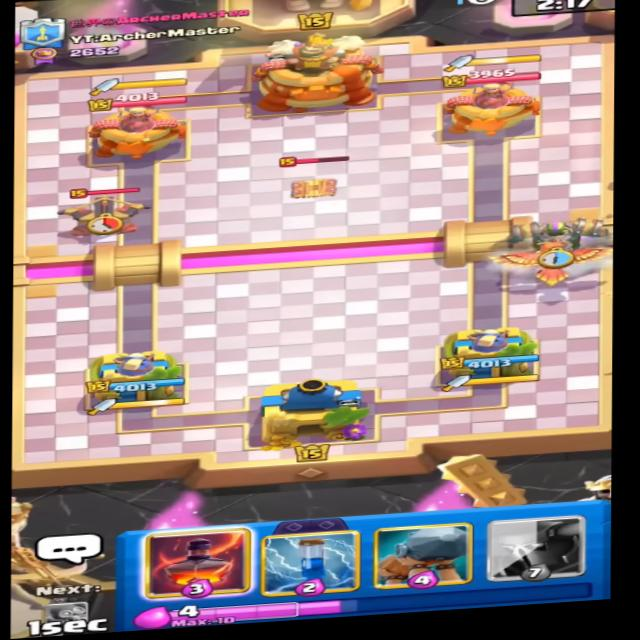Teslahidden: (269, 145, 360, 203)
Xbow: (42, 183, 156, 249)
